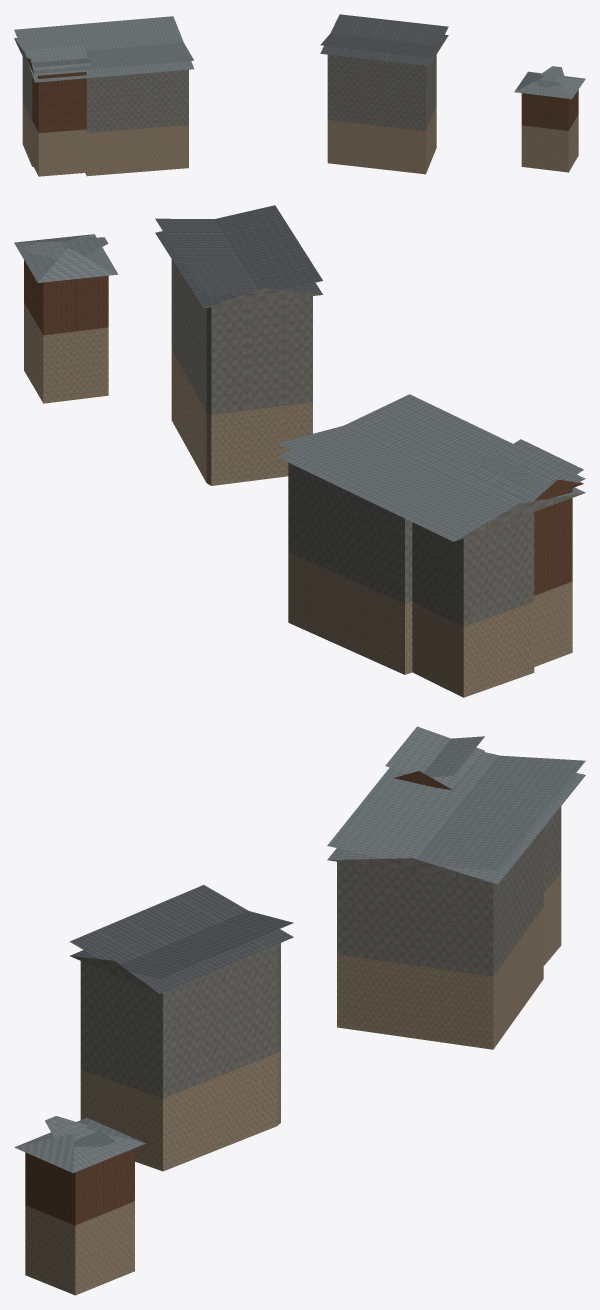
File: bld_c43_-40_420.gltf
The picture shows the model from 3 angles, top to bottom: view 1: azimuth 30°, elevation 25°; view 2: azimuth 150°, elevation 25°; view 3: azimuth 270°, elevation 25°; orthographic projection. The views are drawn at different scales.
Visible parts, largest first — view 1: bld_c43_-40_420; view 2: bld_c43_-40_420; view 3: bld_c43_-40_420.
Part boxes in pixels (left/top/right/bottom): bld_c43_-40_420: left=14, top=14, right=585, bottom=176; bld_c43_-40_420: left=14, top=205, right=585, bottom=697; bld_c43_-40_420: left=14, top=726, right=585, bottom=1295.
Size of the model in its own units: 55.25 by 16 by 36.13.
Materials: 7 (7 with a texture image).
